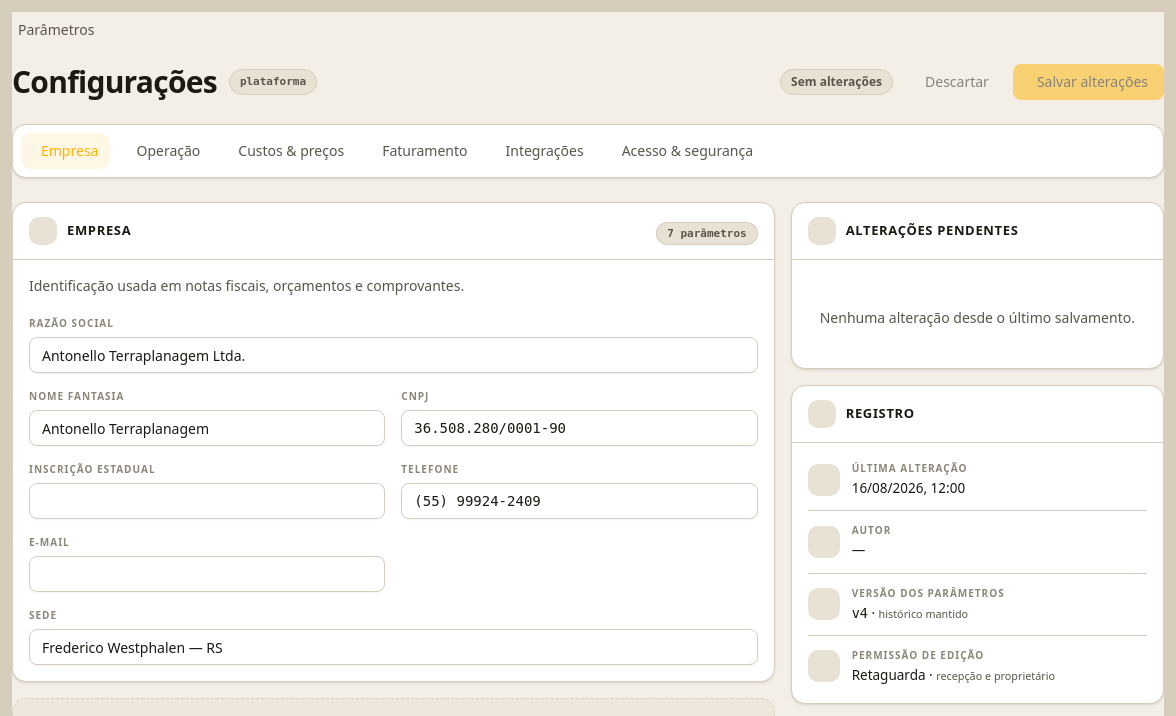
Test: ConfiguracoesPage › bloqueia o salvamento quando um campo numérico fica vazio
Click the button "Custos & preços". click: point(287, 151)
box: [218,133,356,169]
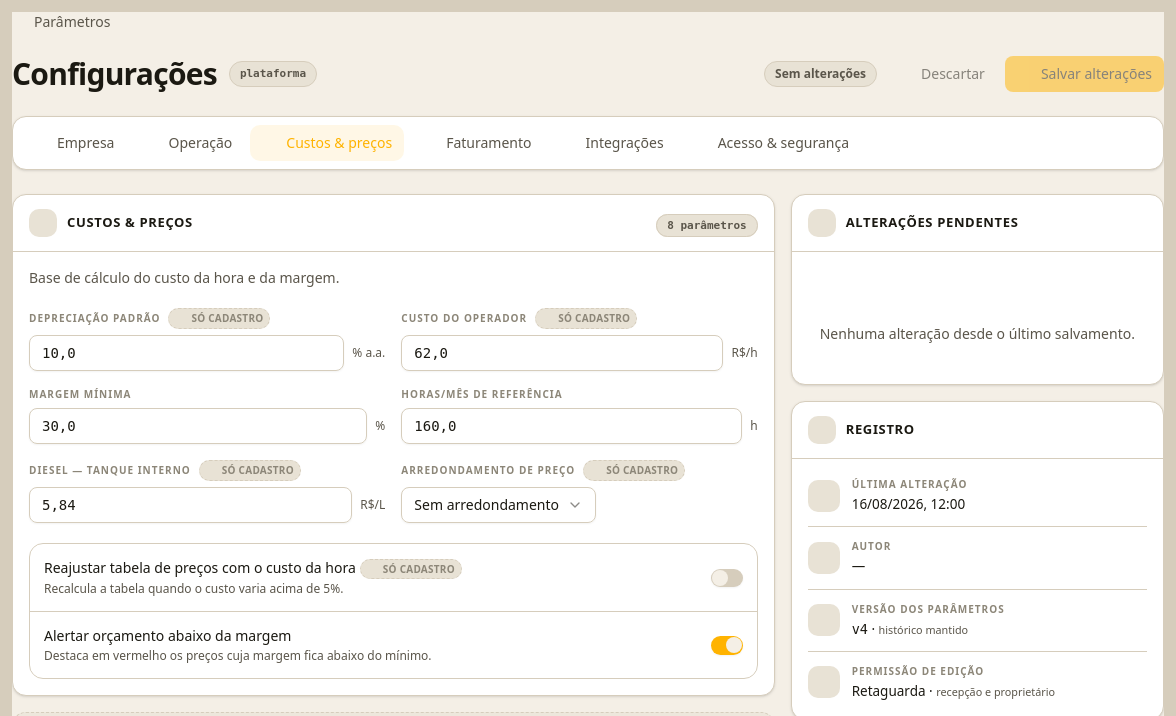
Clear the field labelled "Horas/mês de referência". click: point(572, 426)
box: [401,408,742,444]
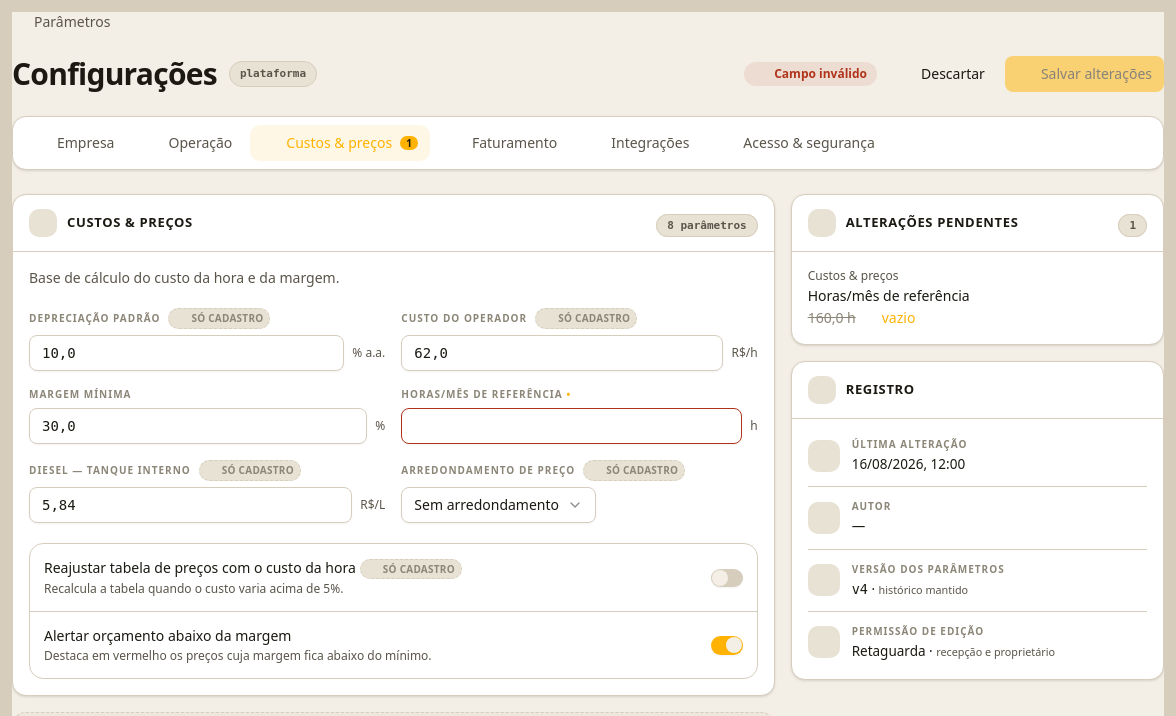
Expected: the button "Salvar alterações" is disabled, [1005,56,1164,92]
Expected: the text "Campo inválido" is shown, [744,62,877,86]
